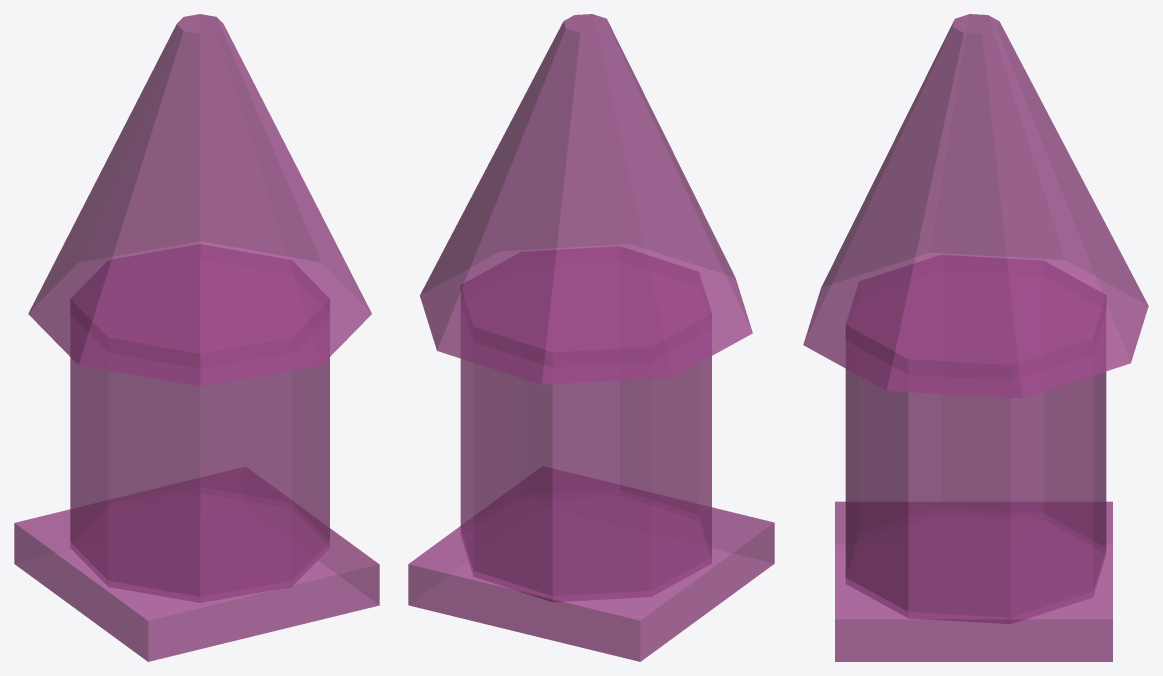
File: SM_Bld_Roof_Tower_01_Collision.fbx
3 views of the same model, side by side, from view 1: azimuth 30°, elevation 25°; view 2: azimuth 150°, elevation 25°; view 3: azimuth 270°, elevation 25° (orthographic). The views are drawn at different scales.
Visible parts, largest first — view 1: SM_Bld_Roof_Tower_01_Collision; view 2: SM_Bld_Roof_Tower_01_Collision; view 3: SM_Bld_Roof_Tower_01_Collision.
Part boxes in pixels (x1,y1,x2,y2): SM_Bld_Roof_Tower_01_Collision: (14, 14, 379, 661); SM_Bld_Roof_Tower_01_Collision: (408, 14, 774, 661); SM_Bld_Roof_Tower_01_Collision: (803, 14, 1148, 661).
Bounding box in the file's own units: 375 × 696 × 375.
